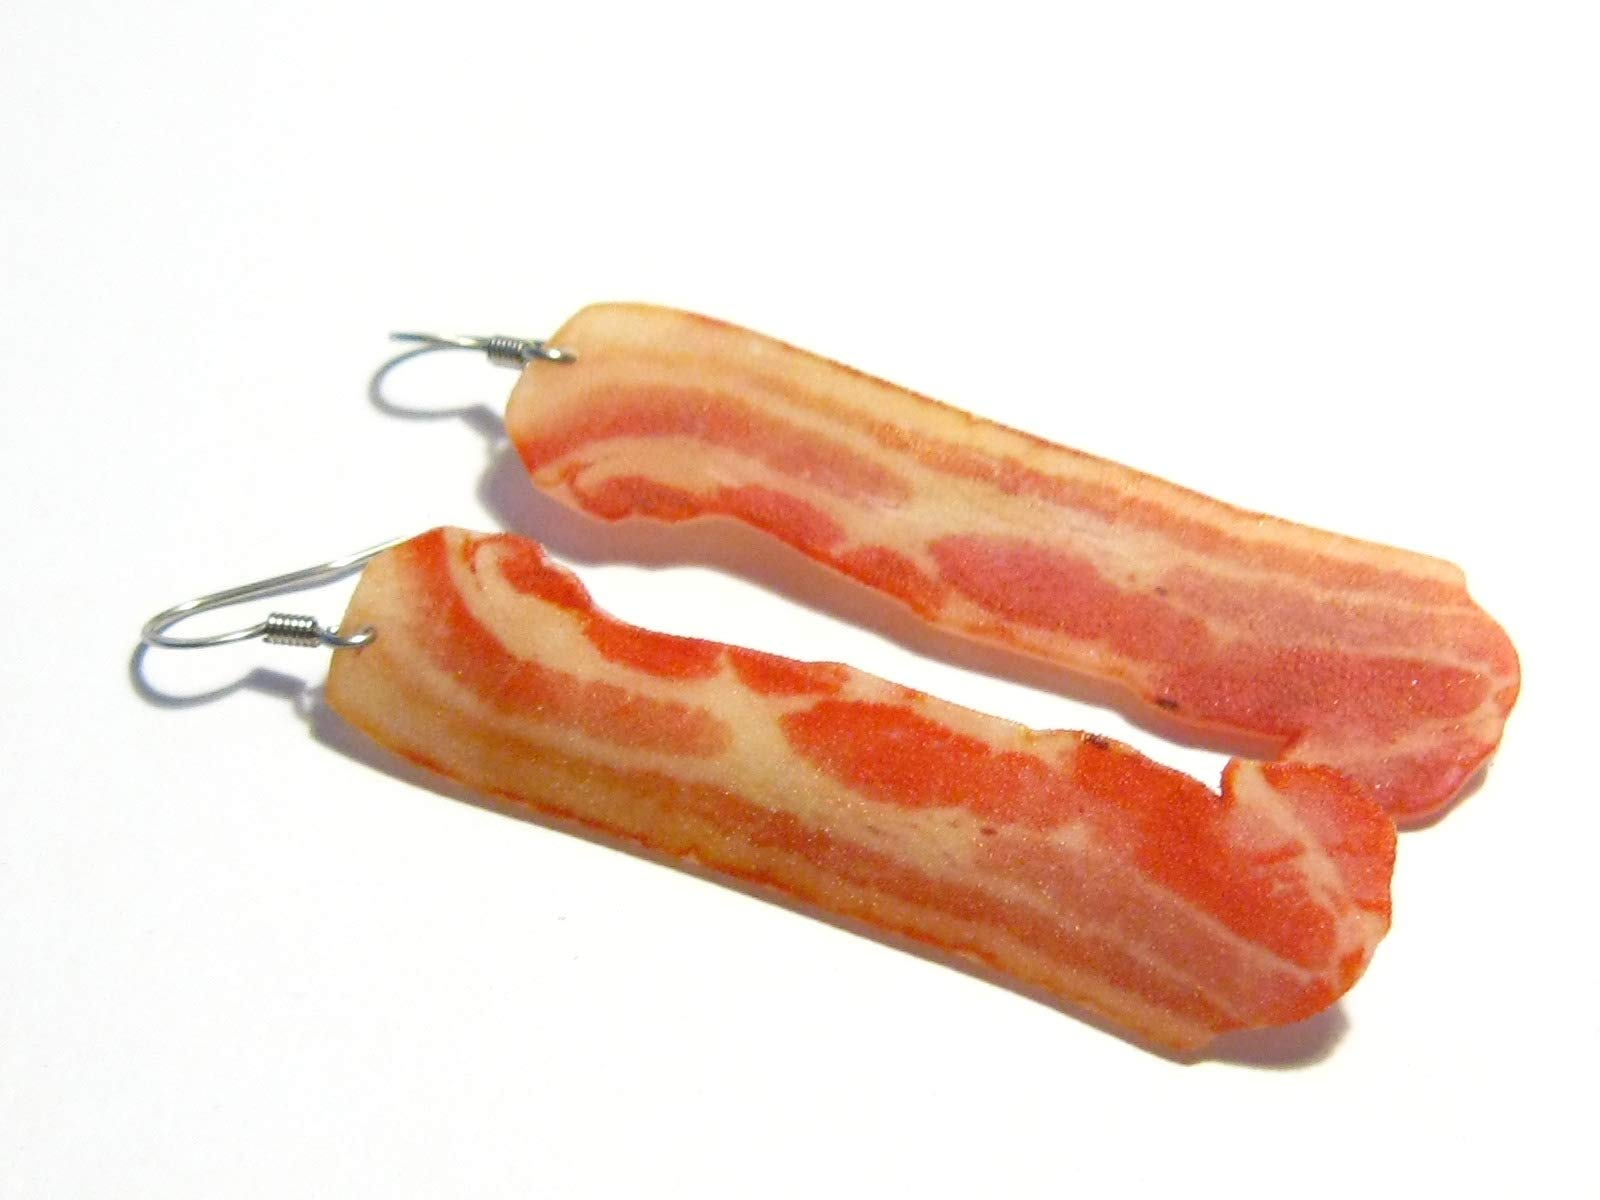bacon: (493, 316, 1537, 1017)
